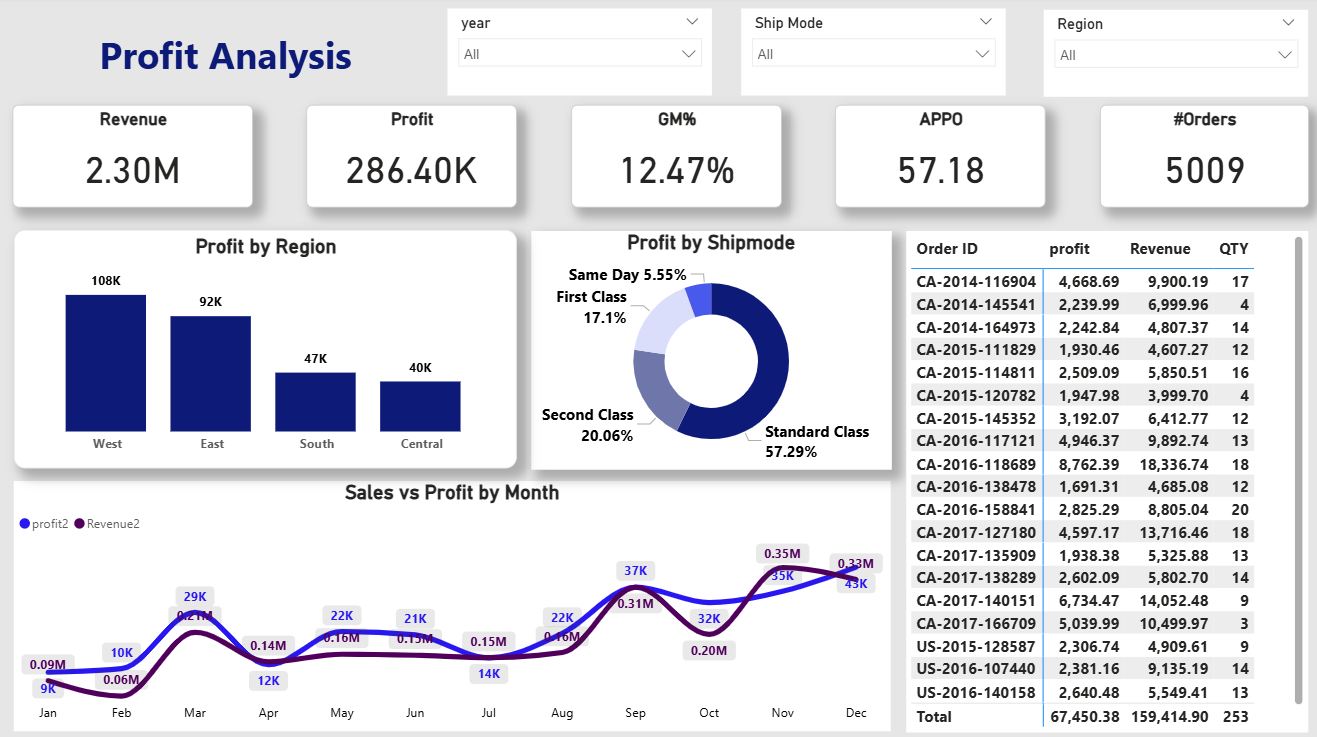

The dashboard page shown, as its layout file describes it:
{"tool":"powerbi","page":{"name":"Profit analysis","canvas":[1280,720],"ordinal":3},"visuals":[{"type":"card","title":"Revenue","fields":{"Values":["Calculations2.Revenue2"]},"box":[11.5,104.9,231.8,99.4],"z":0},{"type":"card","title":"Profit","fields":{"Values":["Calculations2.profit2"]},"box":[295.5,105.1,203,99.4],"z":1000},{"type":"card","title":"GM%","fields":{"Values":["Calculations2.GM%"]},"box":[550.8,104.9,203.3,99.1],"z":2000},{"type":"card","title":"APPO","fields":{"Values":["Calculations2.APPO"]},"box":[806.2,104.9,203.3,99.1],"z":3000},{"type":"card","title":"#Orders","fields":{"Values":["Calculations2.#order2"]},"box":[1061.6,104.9,201.6,99.1],"z":4000},{"type":"lineChart","title":"Sales vs Profit by Month","fields":{"Category":["calender_date.month_name"],"Y":["Calculations2.profit2"],"Y2":["Calculations2.Revenue2"]},"box":[13.4,468.7,846.6,241.9],"z":5000},{"type":"donutChart","title":"Profit by Shipmode","fields":{"Category":["dshipmode.Ship Mode"],"Y":["Calculations2.profit2"]},"box":[512.3,226.8,347.7,230.1],"z":6000},{"type":"pivotTable","fields":{"Rows":["fact_orders.Order ID"],"Values":["Calculations.profit","Calculations.Revenue","Calculations.QTY"]},"box":[875.2,226.8,388,483.8],"z":7000},{"type":"actionButton","box":[25.2,15.1,384.7,80.6],"z":8000},{"type":"clusteredColumnChart","title":"Profit by Region","fields":{"Category":["dlocations.Region"],"Y":["Calculations2.profit2"]},"box":[13.4,225.1,485.5,230.1],"z":9000},{"type":"slicer","fields":{"Values":["dshipmode.Ship Mode"]},"box":[715.6,11.8,255.3,84],"z":10000},{"type":"slicer","fields":{"Values":["calender_date.year"]},"box":[431.7,11.8,255.3,84],"z":11000},{"type":"slicer","fields":{"Values":["dlocations.Region"]},"box":[1007.9,13.4,255.3,84],"z":12000}]}

Visuals, with their boxes in screenshot pixels (x1, y1, x2, y2), scaled from the page's 1280x720 canvas onto the 1317x737 screenshot:
"Revenue" card: select_region(12, 107, 250, 209)
"Profit" card: select_region(304, 108, 513, 209)
"GM%" card: select_region(567, 107, 776, 209)
"APPO" card: select_region(830, 107, 1039, 209)
"#Orders" card: select_region(1092, 107, 1300, 209)
"Sales vs Profit by Month" lineChart: select_region(14, 480, 885, 727)
"Profit by Shipmode" donutChart: select_region(527, 232, 885, 468)
pivotTable - fact_orders.Order ID x Calculations.profit: select_region(900, 232, 1300, 727)
actionButton: select_region(26, 15, 422, 98)
"Profit by Region" clusteredColumnChart: select_region(14, 230, 513, 466)
slicer - dshipmode.Ship Mode: select_region(736, 12, 999, 98)
slicer - calender_date.year: select_region(444, 12, 707, 98)
slicer - dlocations.Region: select_region(1037, 14, 1300, 100)
